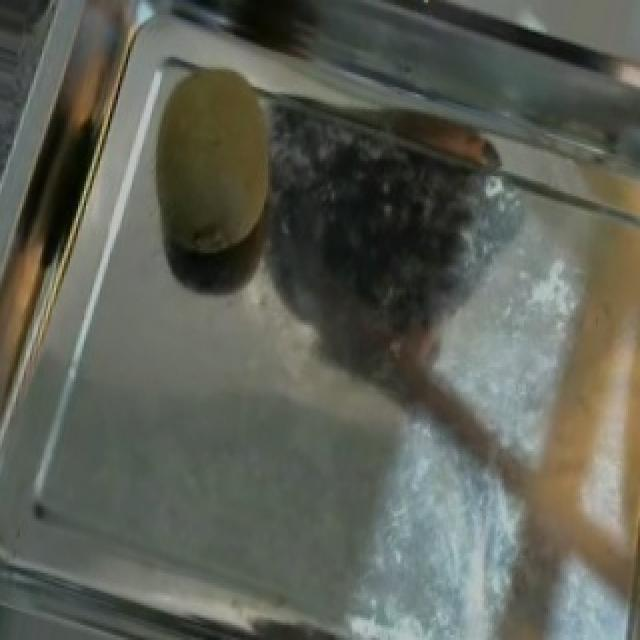Fruit: (504, 193, 640, 536), (120, 47, 308, 290)
